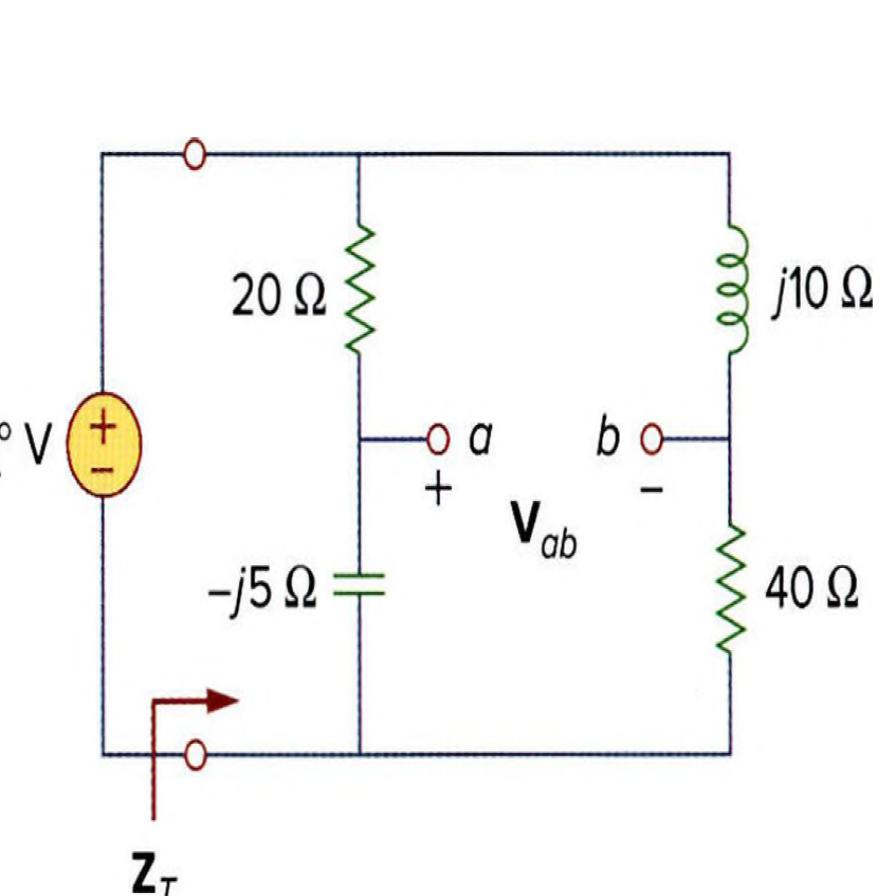C2: (323, 552, 396, 619)
L2: (708, 211, 755, 372)
